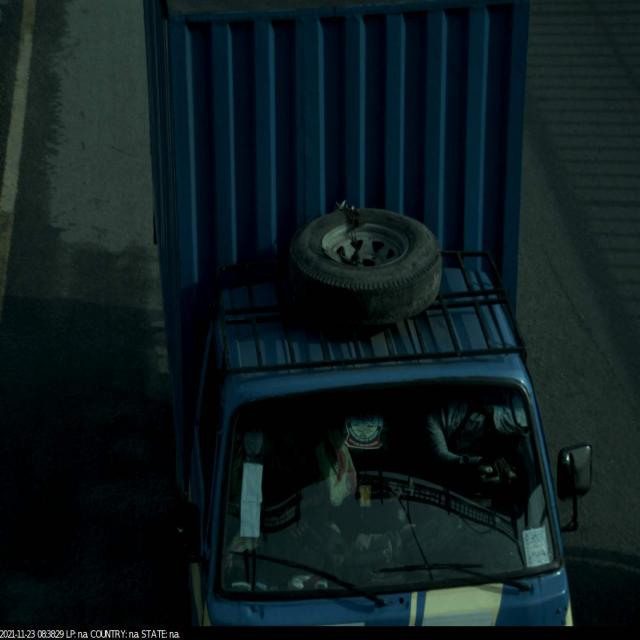windshield: (213, 360, 570, 609)
